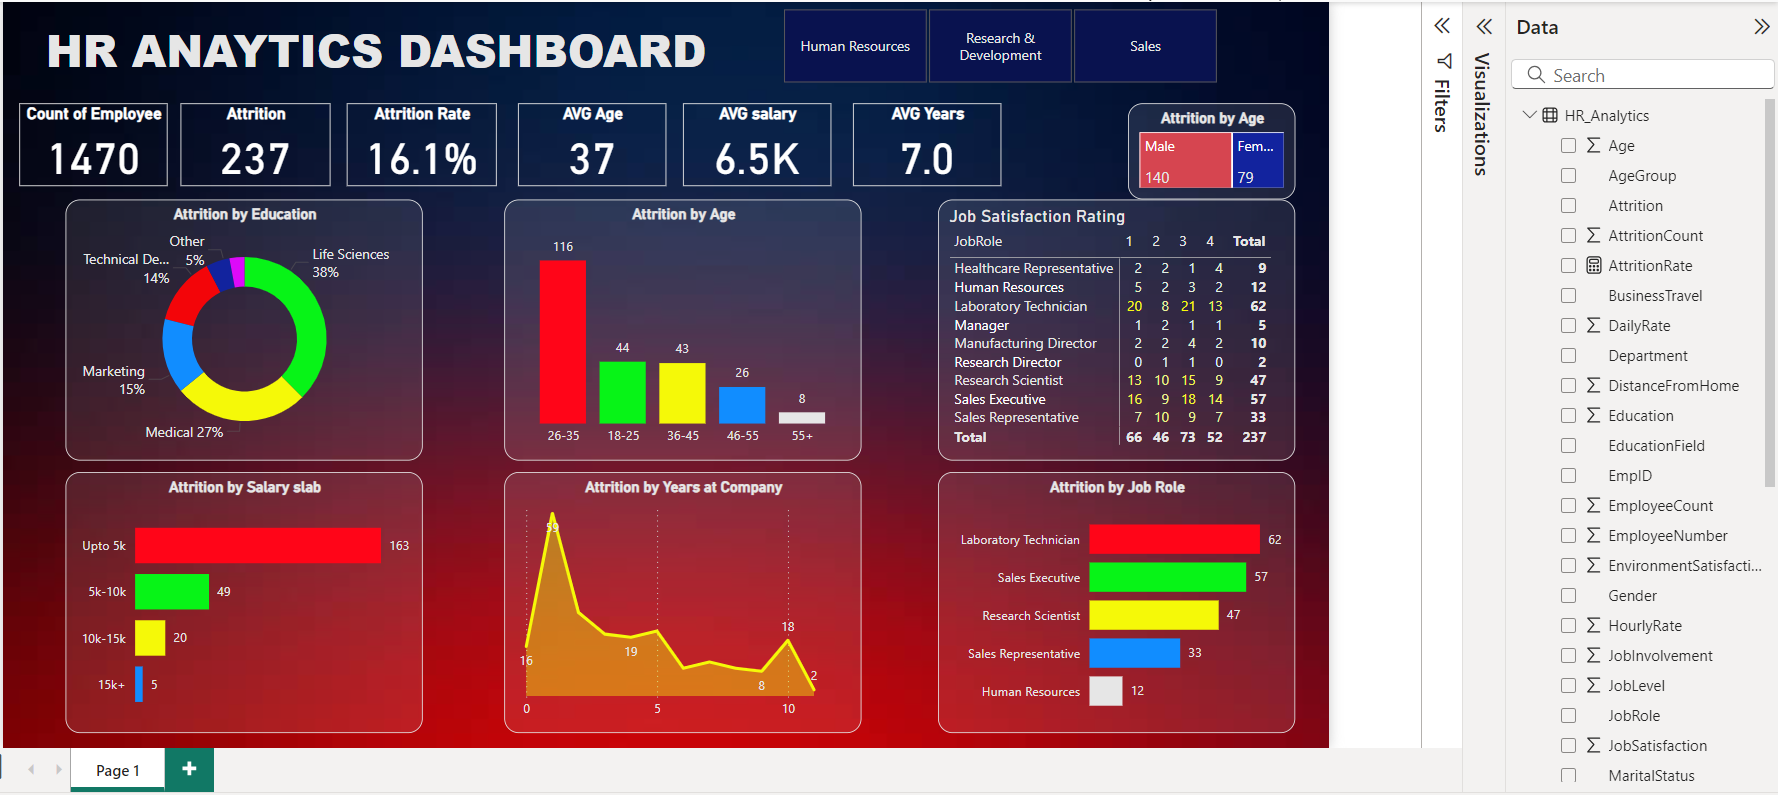

This screenshot's page, from the dashboard's own definition file:
{"tool":"powerbi","page":{"name":"Page 1","canvas":[1280,720],"ordinal":0},"visuals":[{"type":"card","title":"Count of Employee","fields":{"Values":["Count(HR_Analytics.EmpID)"]},"box":[15.8,97.4,143.2,80.2],"z":0},{"type":"card","title":"Attrition","fields":{"Values":["Sum(HR_Analytics.AttritionCount)"]},"box":[171.9,97.4,144.6,80.2],"z":1000},{"type":"card","title":"Attrition Rate","fields":{"Values":["HR_Analytics.AttritionRate"]},"box":[332.2,97.4,144.6,80.2],"z":2000},{"type":"card","title":"AVG Age","fields":{"Values":["Avg(HR_Analytics.Age)"]},"box":[496.9,97.4,143.2,80.2],"z":3000},{"type":"card","title":"AVG salary","fields":{"Values":["Avg(HR_Analytics.MonthlyIncome)"]},"box":[655.9,97.4,143.2,80.2],"z":4000},{"type":"card","title":"AVG Years","fields":{"Values":["Avg(HR_Analytics.YearsAtCompany)"]},"box":[820.6,97.4,143.2,80.2],"z":5000},{"type":"donutChart","title":"Attrition by Education","fields":{"Category":["HR_Analytics.EducationField"],"Y":["Sum(HR_Analytics.AttritionCount)"]},"box":[60.1,190.5,345.1,252],"z":6000},{"type":"columnChart","title":"Attrition by Age","fields":{"Category":["HR_Analytics.AgeGroup"],"Y":["Sum(HR_Analytics.AttritionCount)"]},"box":[484,190.5,345.1,252],"z":7000},{"type":"pivotTable","title":"Job Satisfaction Rating","fields":{"Rows":["HR_Analytics.JobRole"],"Columns":["HR_Analytics.JobSatisfaction"],"Values":["Sum(HR_Analytics.AttritionCount)"]},"box":[902.2,190.5,345.1,252],"z":8000},{"type":"clusteredBarChart","title":"Attrition by Salary slab","fields":{"Category":["HR_Analytics.SalarySlab"],"Y":["Sum(HR_Analytics.AttritionCount)"]},"box":[60.1,454,345.1,252],"z":9000},{"type":"clusteredBarChart","title":"Attrition by Job Role","fields":{"Y":["Sum(HR_Analytics.AttritionCount)"],"Category":["HR_Analytics.JobRole"]},"box":[902.2,454,345.1,252],"z":10000},{"type":"areaChart","title":"Attrition by Years at Company","fields":{"Category":["HR_Analytics.YearsAtCompany"],"Y":["Sum(HR_Analytics.AttritionCount)"]},"box":[484,454,345.1,252],"z":11000},{"type":"treemap","title":"Attrition by Age","fields":{"Group":["HR_Analytics.Gender"],"Values":["Sum(HR_Analytics.AttritionCount)"]},"box":[1085.5,97.4,161.8,93.1],"z":12000},{"type":"slicer","title":"Department","fields":{"Values":["HR_Analytics.Department"]},"box":[727.5,0,468.3,84.5],"z":13000},{"type":"textbox","box":[15.8,11.5,688.8,80.2],"z":14000}]}

Visuals, with their boxes on the page's 1280x720 design canvas (x1, y1, x2, y2). These are canvas units, not pixel positions in the 1778x795 screenshot, which may show the page scaled, cropped or inside an application window:
"Count of Employee" card: 16/97/159/178
"Attrition" card: 172/97/316/178
"Attrition Rate" card: 332/97/477/178
"AVG Age" card: 497/97/640/178
"AVG salary" card: 656/97/799/178
"AVG Years" card: 821/97/964/178
"Attrition by Education" donutChart: 60/190/405/442
"Attrition by Age" columnChart: 484/190/829/442
"Job Satisfaction Rating" pivotTable: 902/190/1247/442
"Attrition by Salary slab" clusteredBarChart: 60/454/405/706
"Attrition by Job Role" clusteredBarChart: 902/454/1247/706
"Attrition by Years at Company" areaChart: 484/454/829/706
"Attrition by Age" treemap: 1086/97/1247/190
"Department" slicer: 728/0/1196/84
textbox: 16/12/705/92
